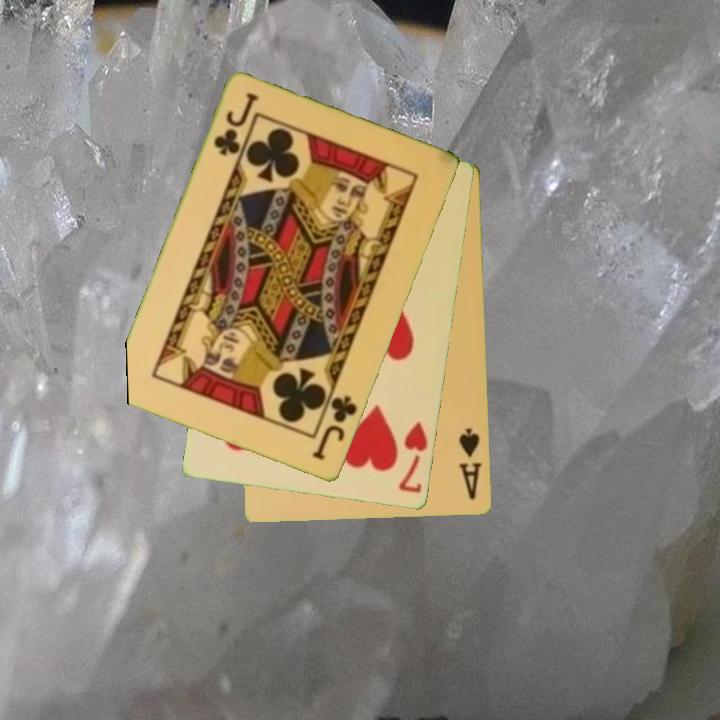7h: (395, 418, 431, 497)
As: (456, 425, 485, 504)
Jc: (308, 392, 361, 464), (210, 89, 261, 160)
